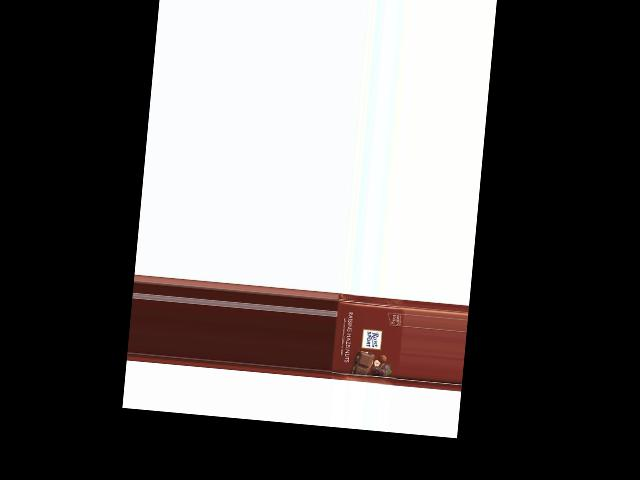chocolate: (329, 293, 405, 387)
